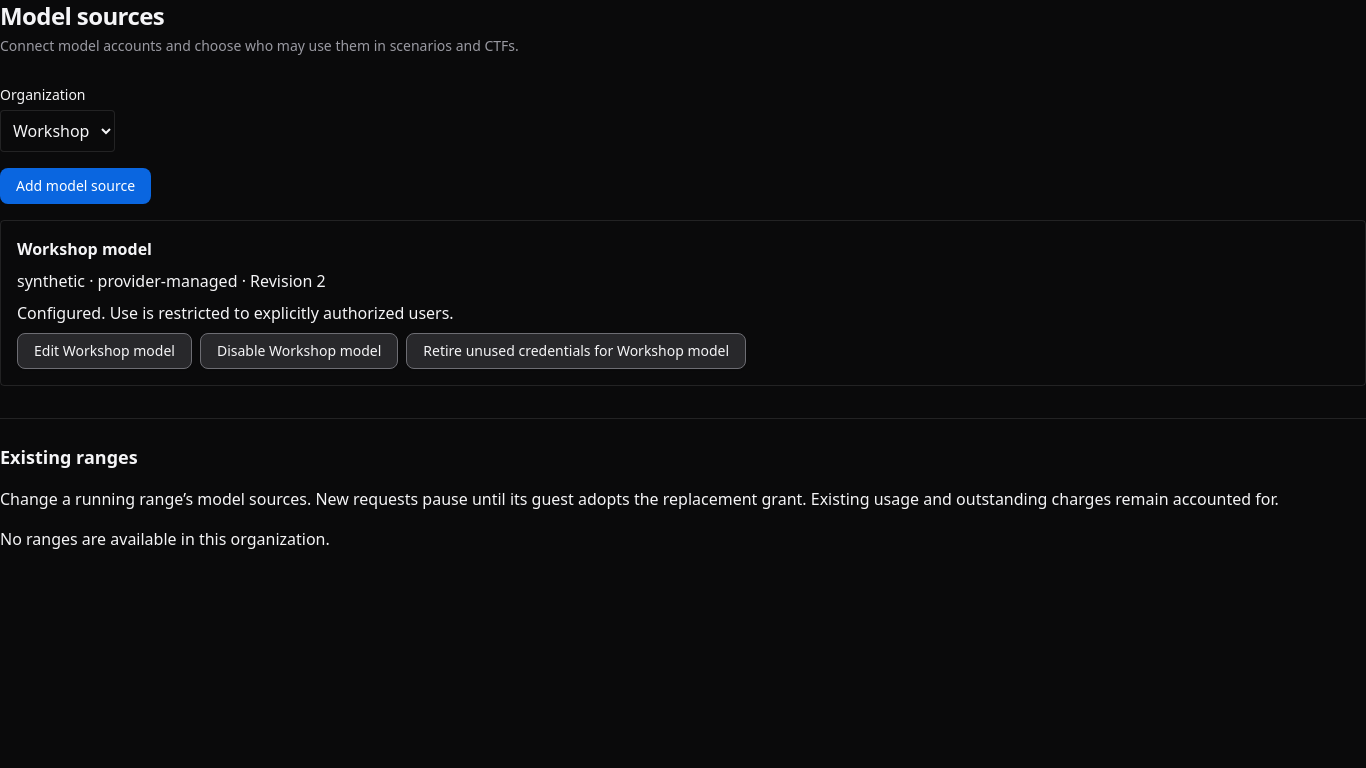
Test: retires unused credentials through the tenant and reports retained versions
The width and height of the screenshot is (1366, 768).
Step 1. Click the button "Retire unused credentials for Workshop model" → [576, 351], box left=406, top=333, right=746, bottom=369
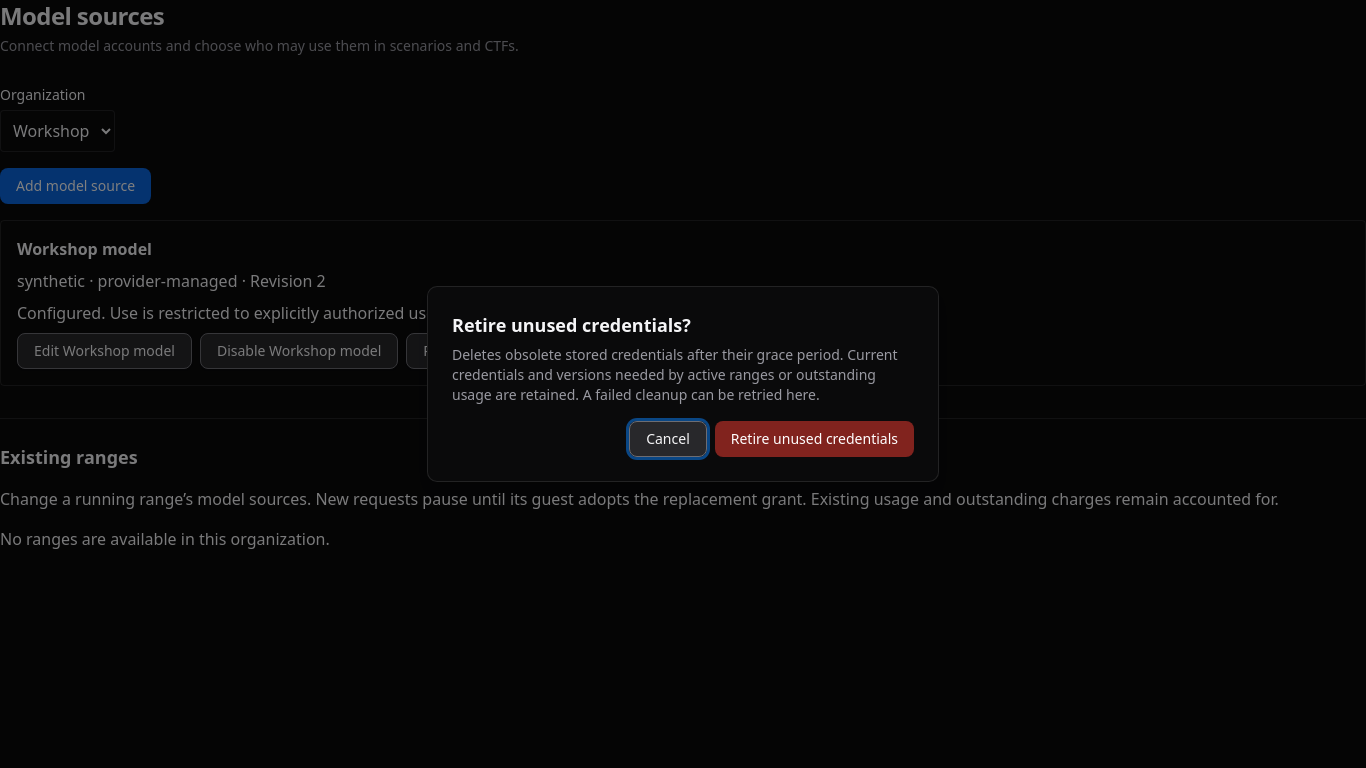
Step 2. Click the button "Retire unused credentials" → [814, 439], box left=715, top=421, right=914, bottom=457
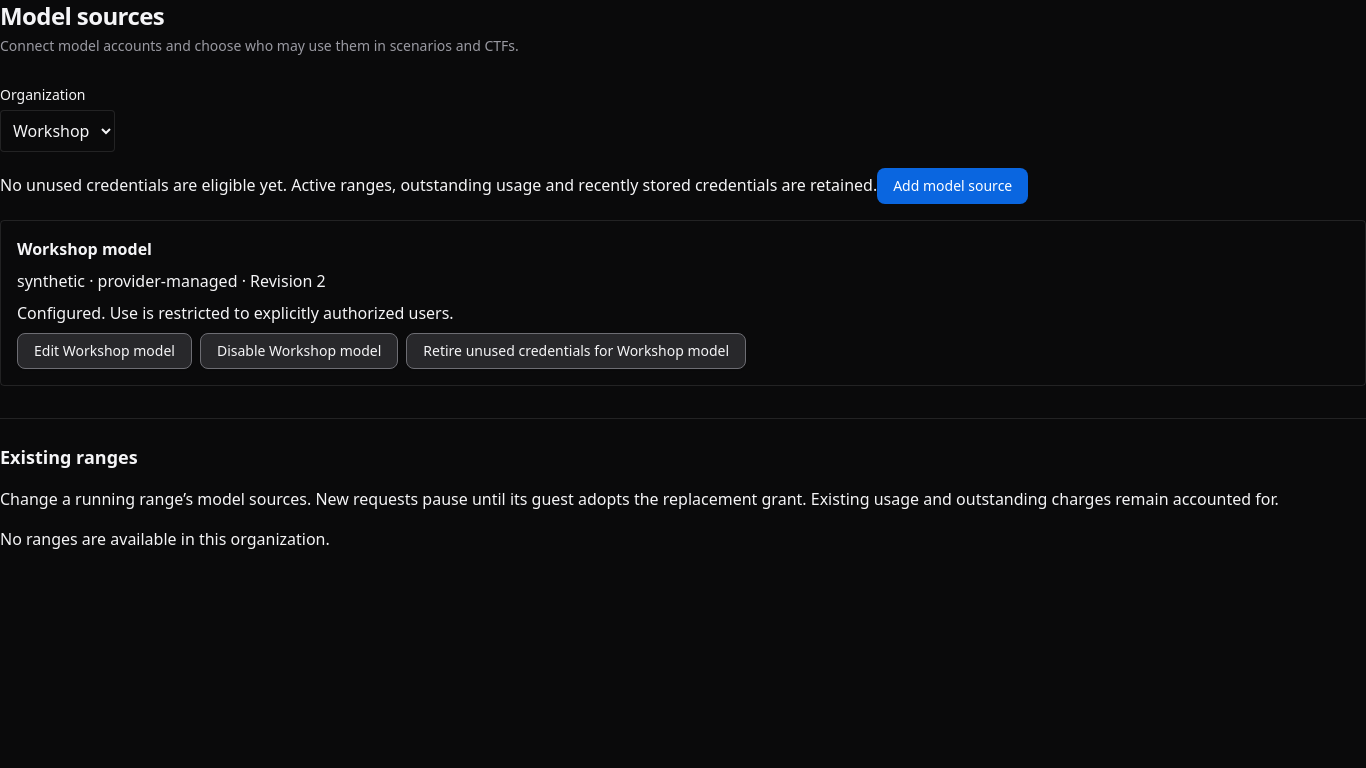
Now the text "No unused credentials are eligible yet" is shown, box left=0, top=174, right=877, bottom=196
